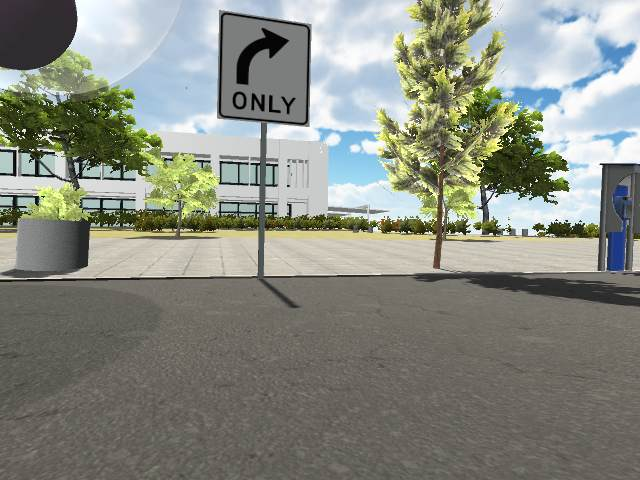arrow_right: (235, 27, 290, 84)
